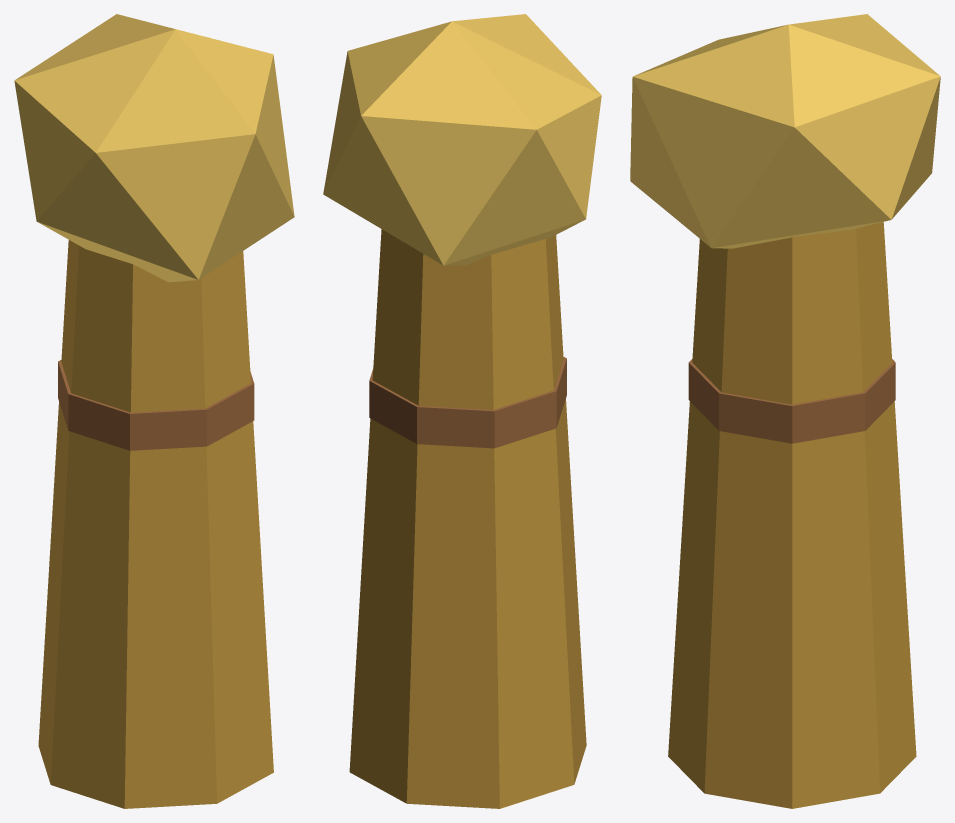
The model's file is wheat_bundle.glb.
The picture shows the model from 3 angles, left to right: view 1: azimuth 30°, elevation 25°; view 2: azimuth 150°, elevation 25°; view 3: azimuth 270°, elevation 25°; orthographic projection.
Parts seen in each view (by area): view 1: wheat_bundle; view 2: wheat_bundle; view 3: wheat_bundle.
Part boxes in pixels (bbox=[...]): wheat_bundle: bbox=[14, 14, 294, 808]; wheat_bundle: bbox=[323, 14, 601, 808]; wheat_bundle: bbox=[630, 14, 940, 808].
Bounding box in the file's own units: 0.4041 × 1.18 × 0.4502.
